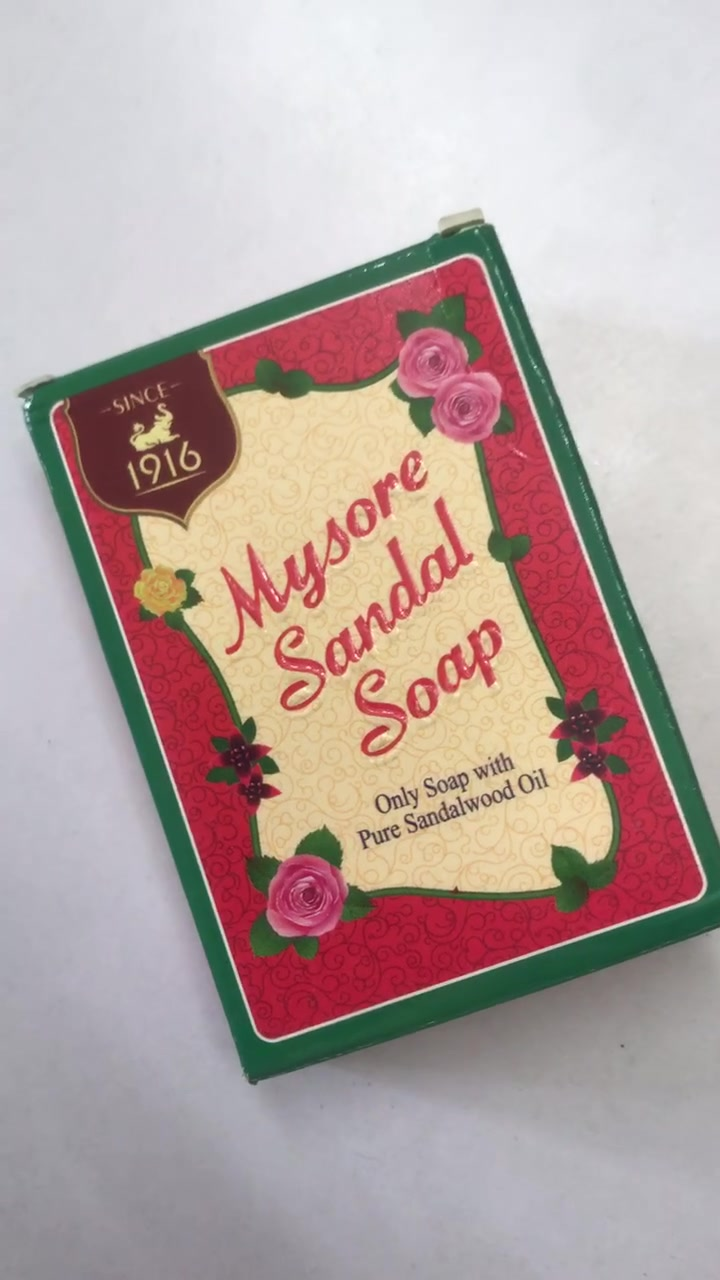mysore sandal soap: (13, 223, 720, 1088)
